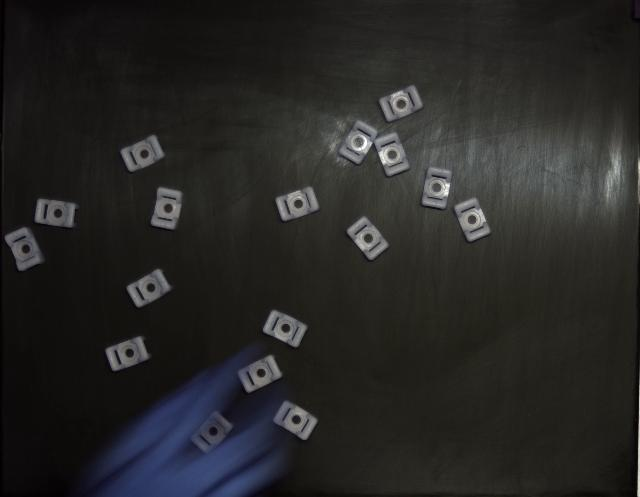first_side: (346, 216, 389, 261), (274, 401, 318, 441), (339, 120, 378, 165), (262, 310, 308, 348), (128, 269, 172, 308), (5, 228, 44, 271), (121, 135, 165, 172), (379, 85, 422, 122), (238, 356, 282, 392), (374, 132, 410, 176), (454, 198, 490, 242), (275, 186, 320, 221), (35, 199, 79, 229), (151, 188, 182, 230), (421, 168, 452, 209)
